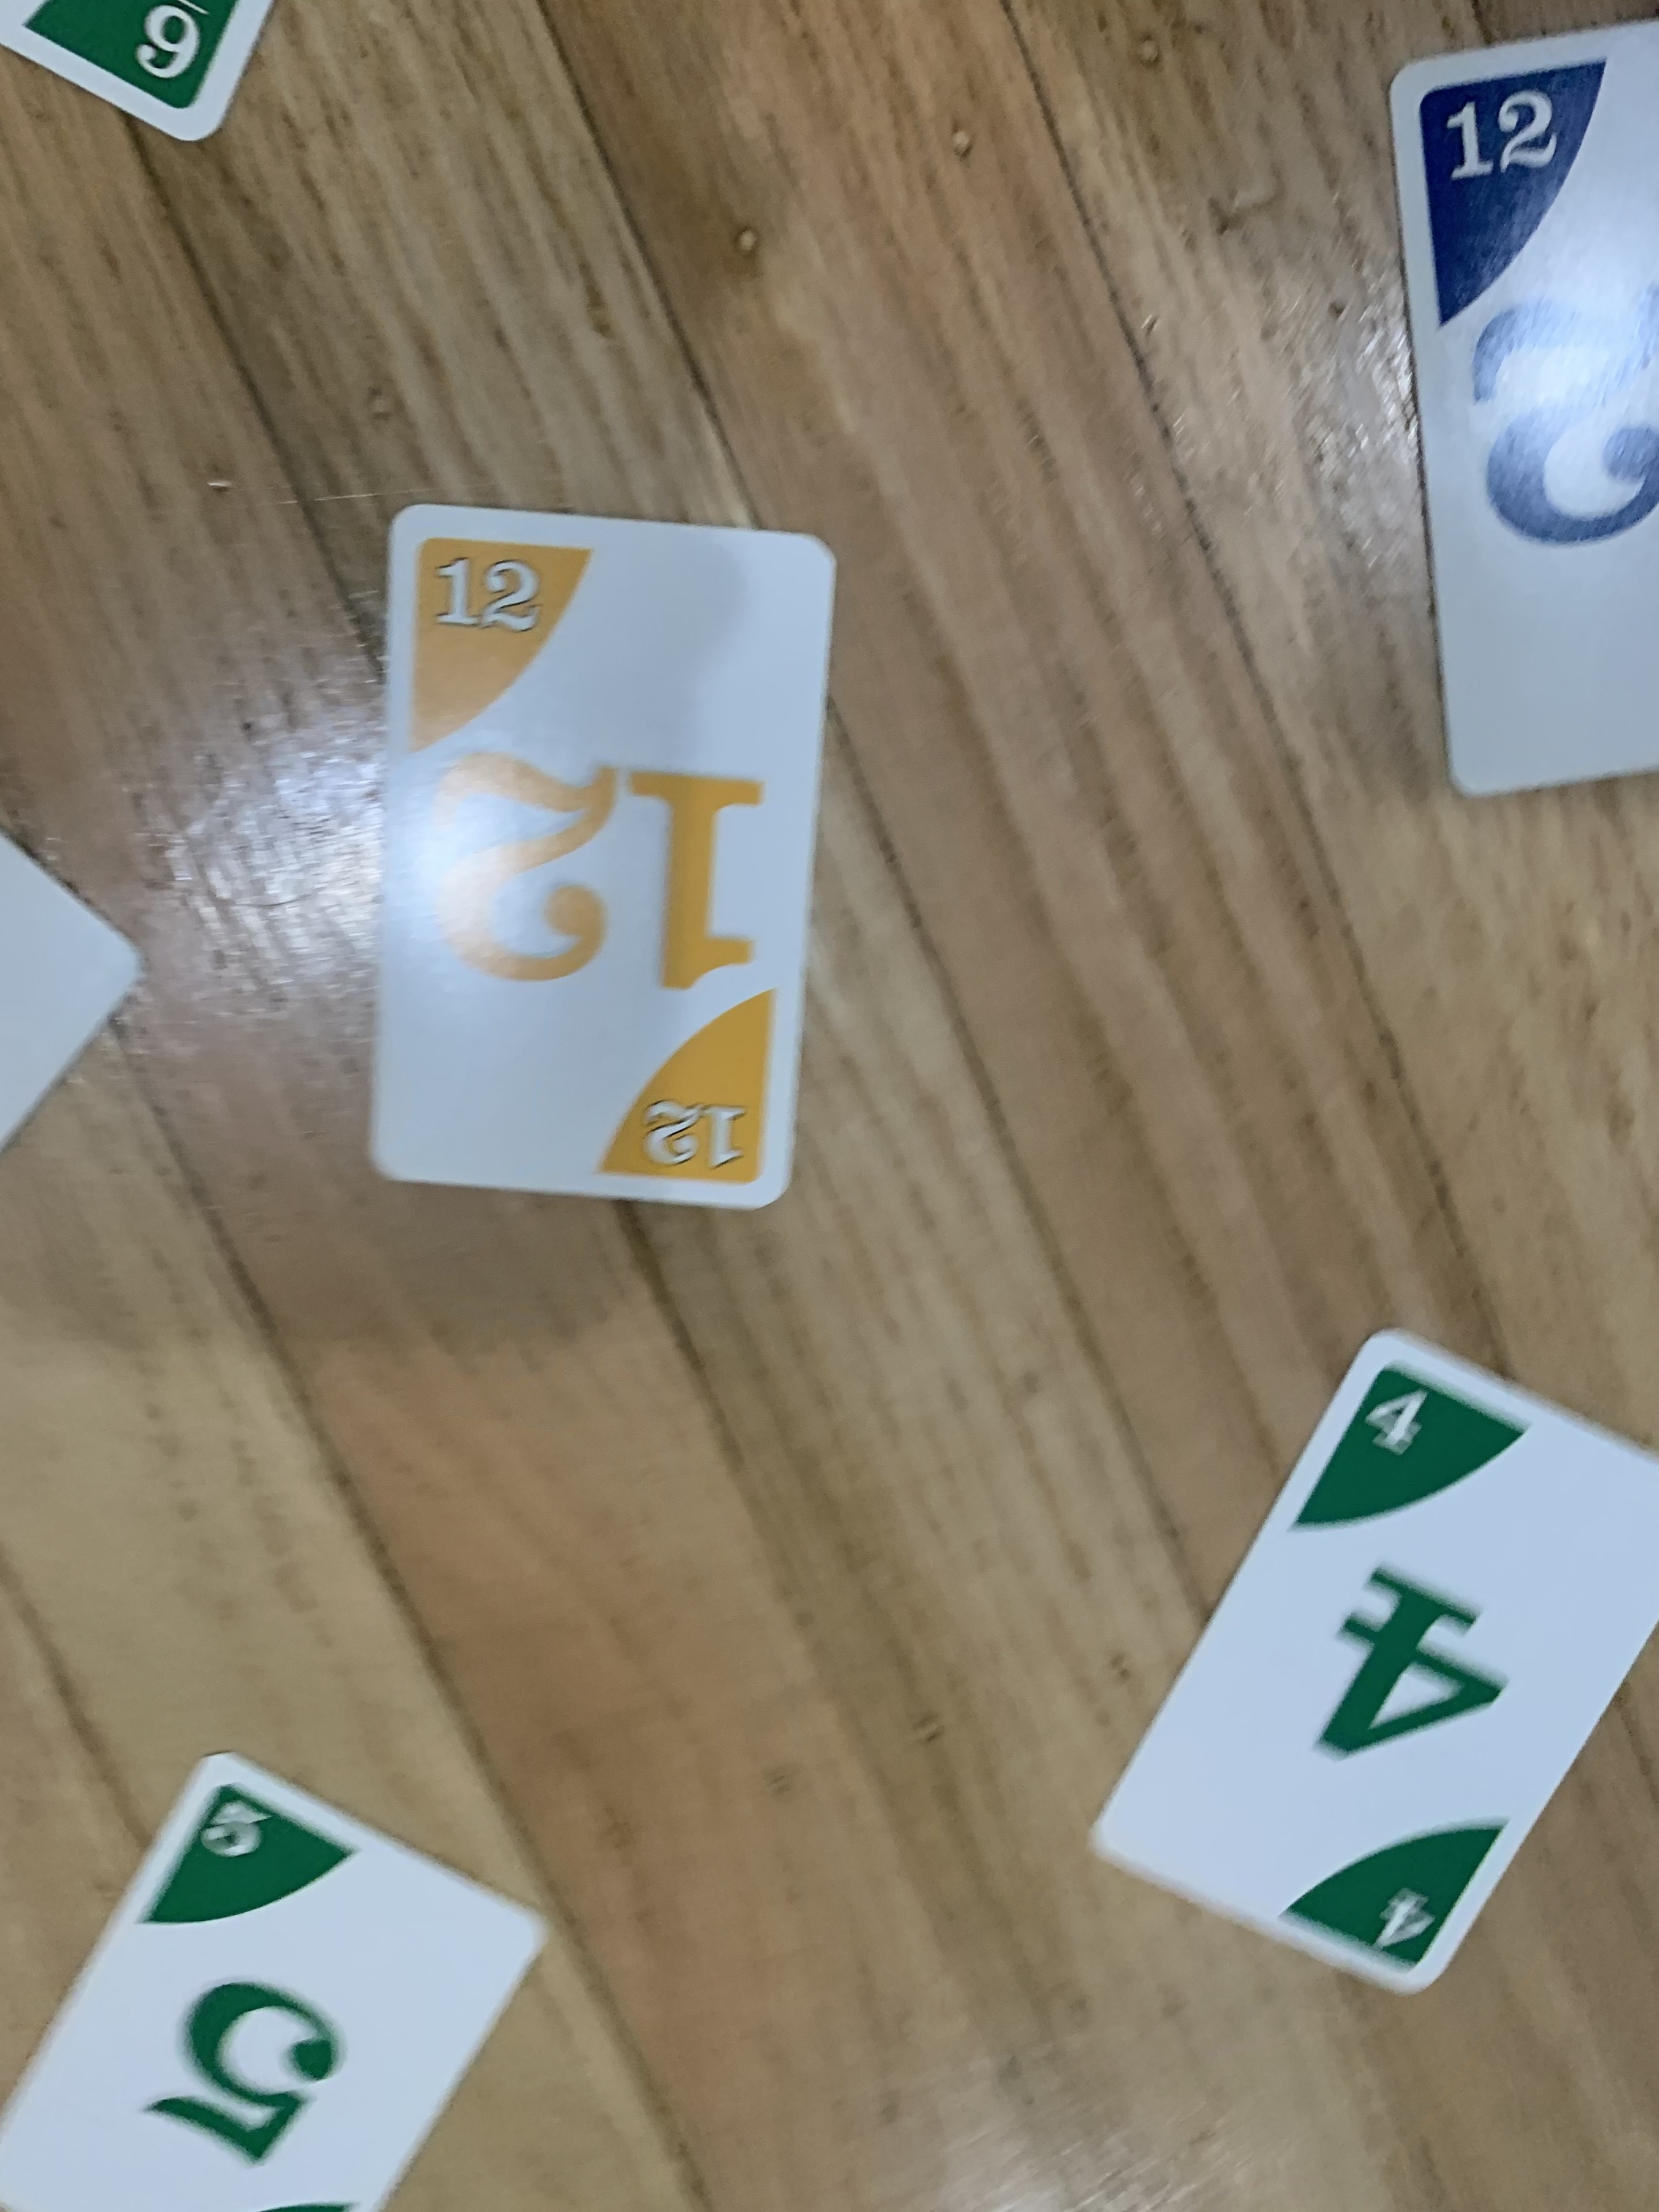five: (5, 1742, 573, 2212)
four: (1075, 1305, 1659, 2012)
twelve: (331, 484, 845, 1233)
